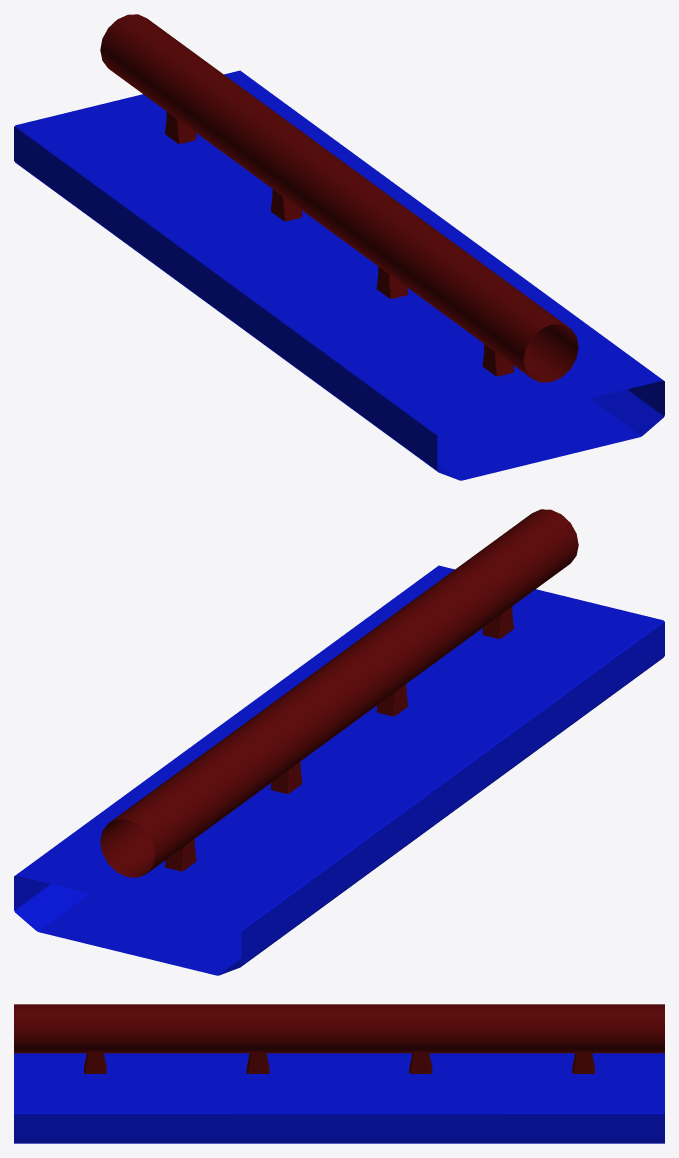
Rendered from TramBridge_Concrete_05.FBX.
3 renders of one model, top to bottom at view 1: azimuth 30°, elevation 25°; view 2: azimuth 150°, elevation 25°; view 3: azimuth 270°, elevation 25°, orthographic. The views are drawn at different scales.
Visible parts, largest first — view 1: TramBridge_Concrete_05_LOD0; view 2: TramBridge_Concrete_05_LOD0; view 3: TramBridge_Concrete_05_LOD0.
Boxes of the visible parts, x1,y1,x2,y2 form: TramBridge_Concrete_05_LOD0: (14, 14, 664, 480); TramBridge_Concrete_05_LOD0: (14, 509, 664, 975); TramBridge_Concrete_05_LOD0: (14, 1004, 664, 1143).
Bounding box in the file's own units: 248 × 140 × 800.
